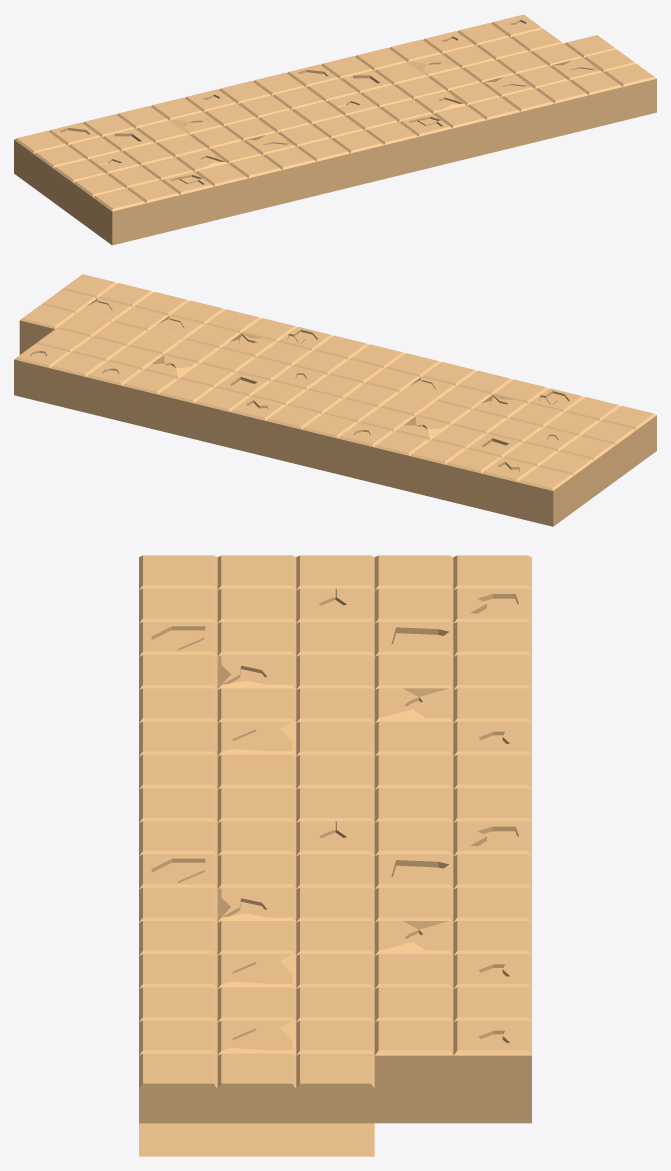
File: 16x5 Floor.fbx
3 renders of one model, top to bottom at view 1: azimuth 30°, elevation 25°; view 2: azimuth 150°, elevation 25°; view 3: azimuth 270°, elevation 25°, orthographic. The views are drawn at different scales.
Visible parts, largest first — view 1: Cube; view 2: Cube; view 3: Cube.
Part boxes in pixels (x1,y1,x2,y2): Cube: (14, 14, 656, 245); Cube: (14, 274, 656, 526); Cube: (139, 555, 531, 1156).
Size of the model in its own units: 1600 by 100 by 500.
